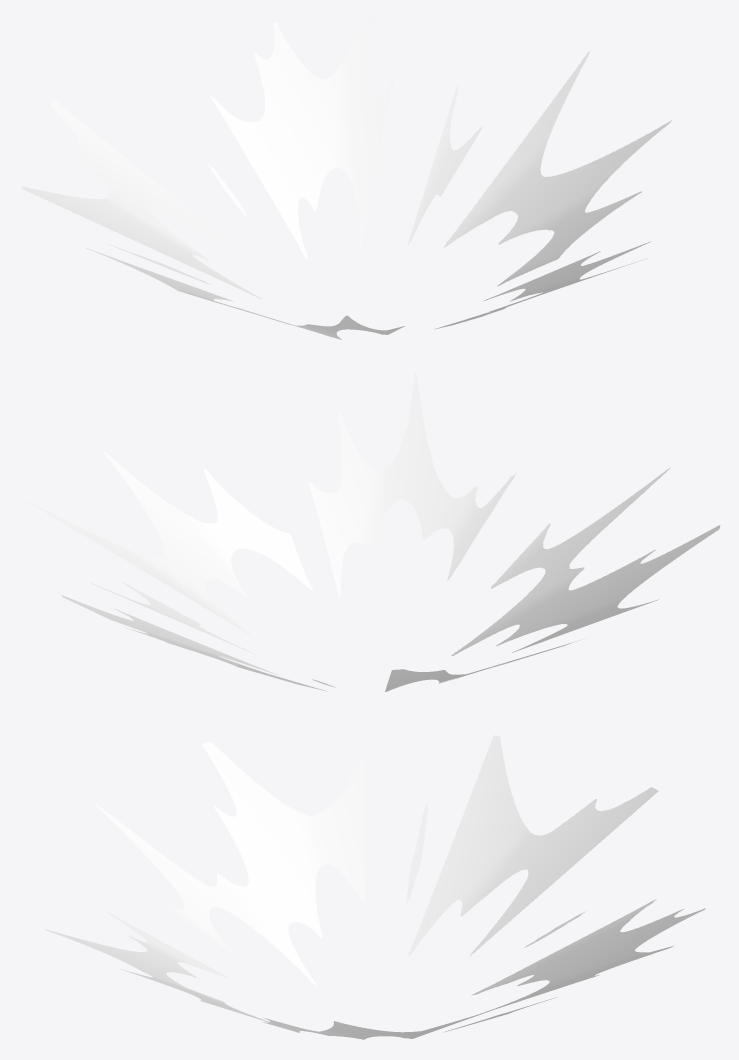
File: eff_light_02.FBX
3 views of the same model, one above another, from view 1: azimuth 30°, elevation 25°; view 2: azimuth 150°, elevation 25°; view 3: azimuth 270°, elevation 25° (orthographic).
Visible parts, largest first — view 1: eff_light_02; view 2: eff_light_02; view 3: eff_light_02.
Part boxes in pixels (x1,y1,x2,y2): eff_light_02: (21,15,671,339); eff_light_02: (23,372,720,691); eff_light_02: (45,735,705,1039).
Bounding box in the file's own units: 292 × 64.77 × 300.
Materials: 1 (1 with a texture image).
